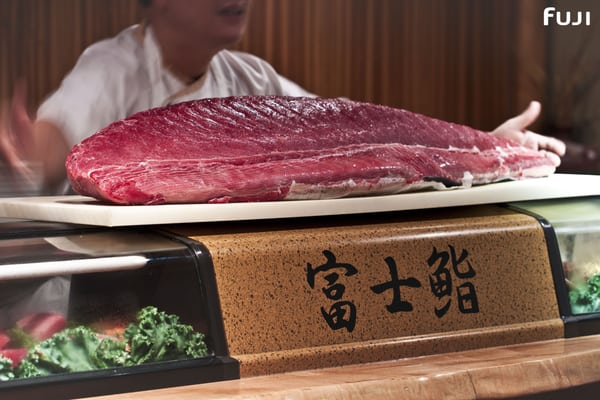sandwich: (43, 93, 571, 204)
